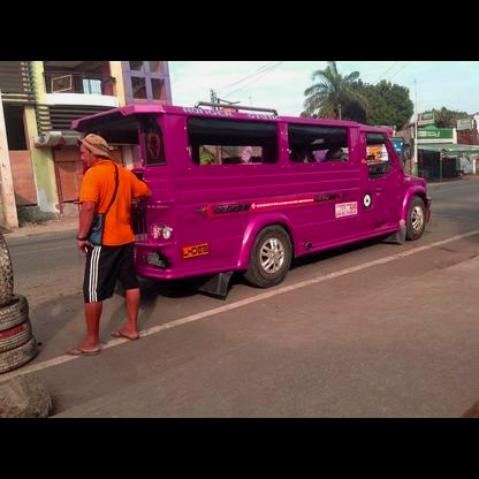jeepney: (81, 76, 459, 317)
